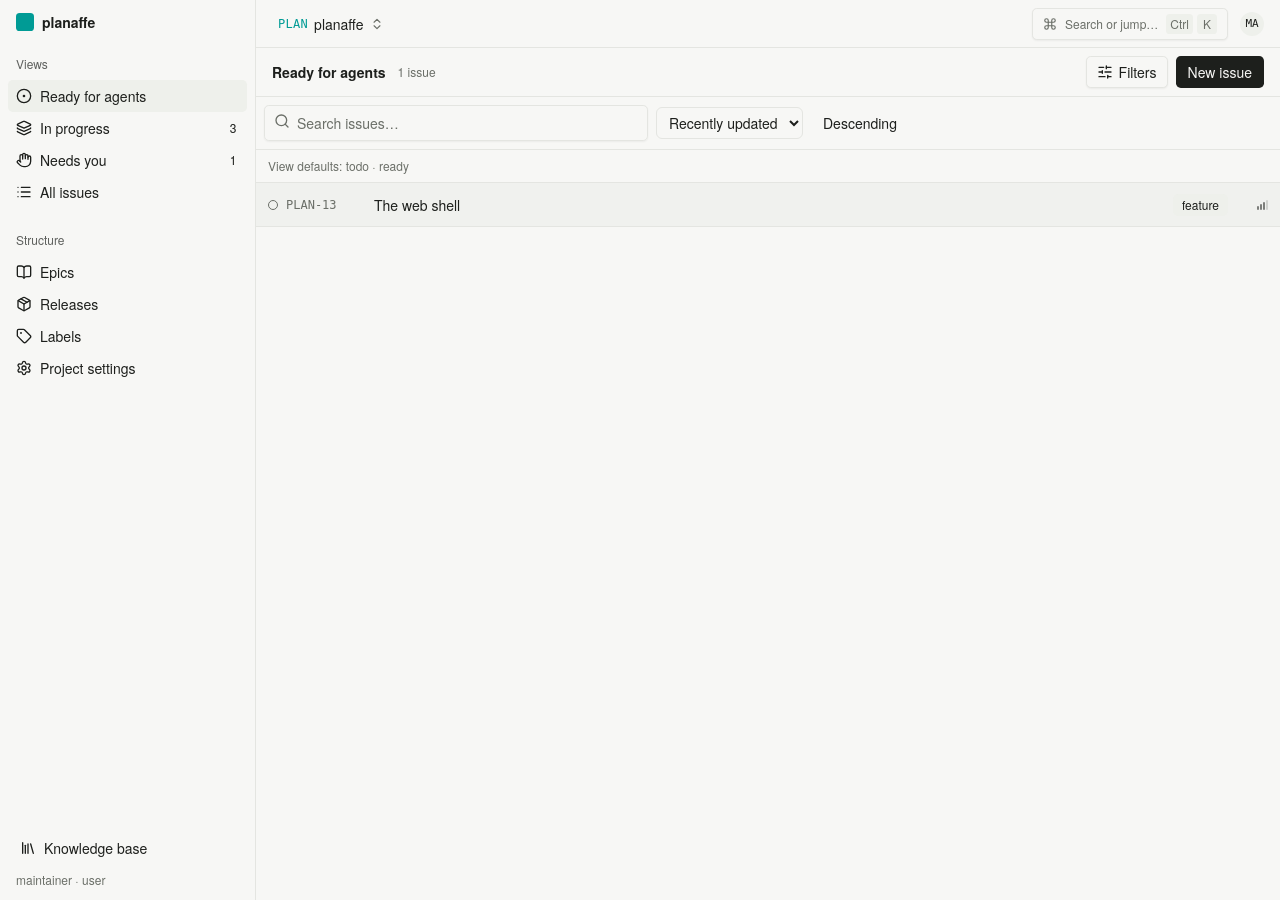
the shell (ADR 0006) › offers what the instance finds for words, and the way to all of them
Check: the text "The web shell" is shown, box x1=374 y1=194 x2=460 y2=214
Type keys "{Meta>}k{/Meta}"
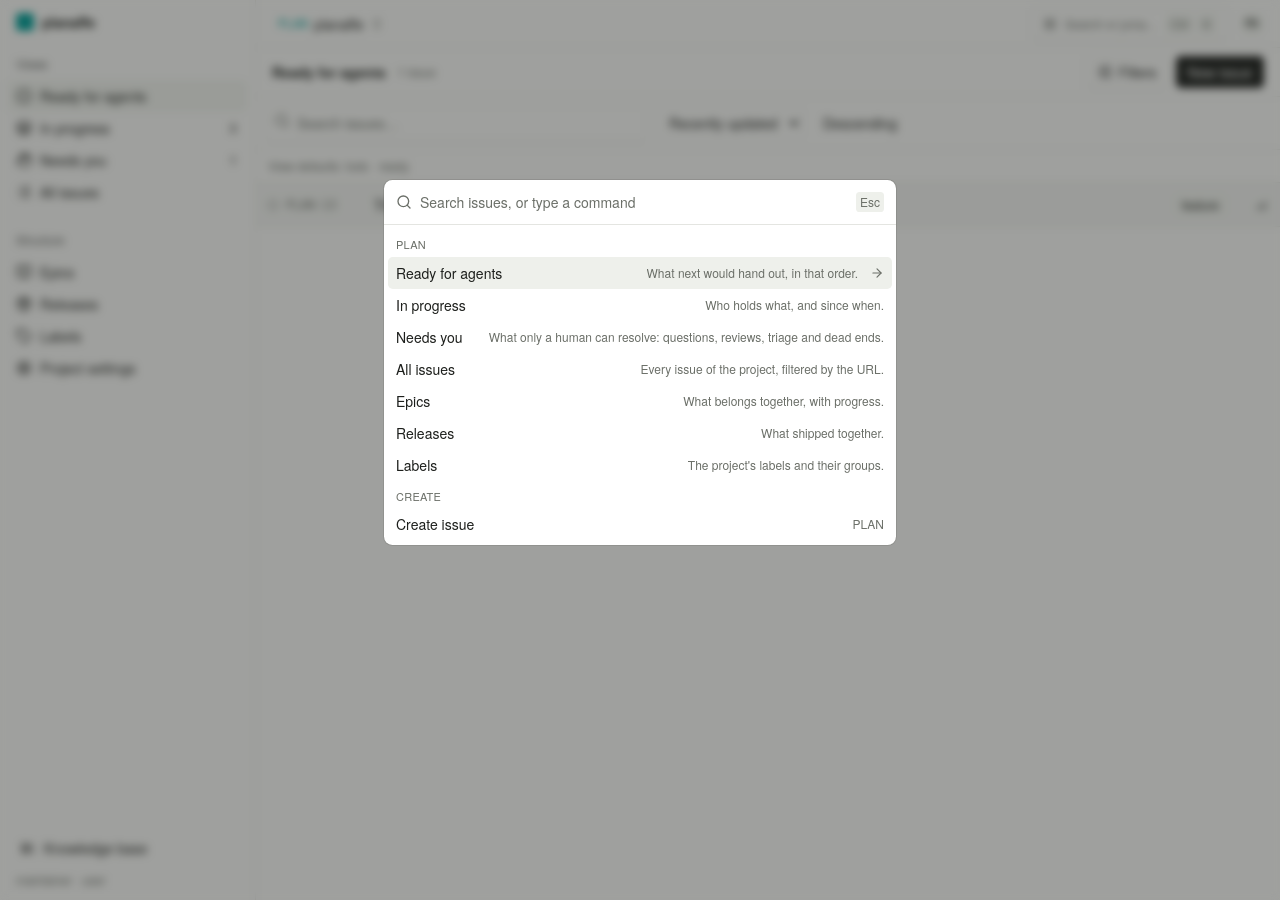
Type "shell" into the dropdown labelled "Search issues, or type a command". click: (634, 202)
box: x1=420 y1=180 x2=848 y2=224
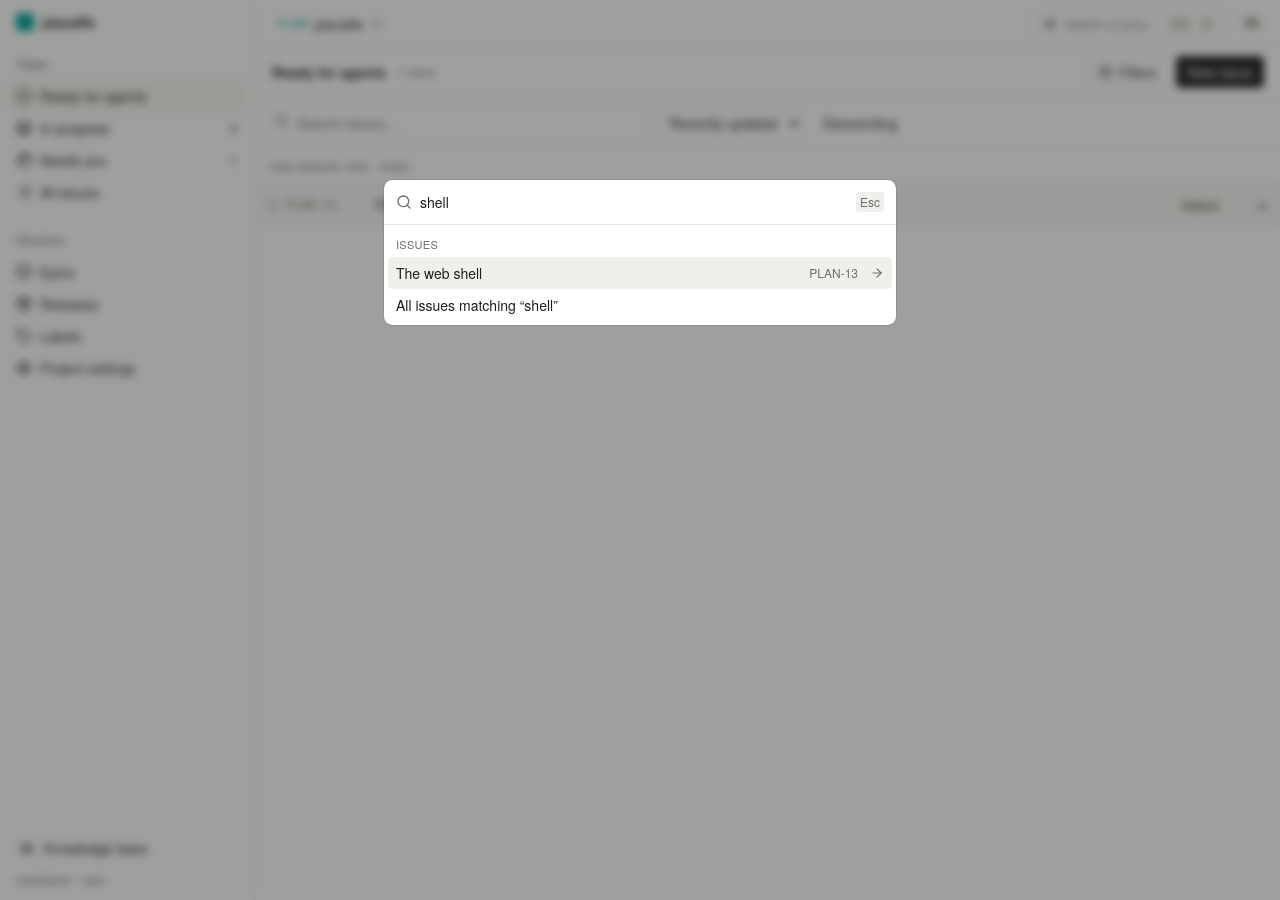
Check: the text "PLAN" is shown, box x1=278 y1=16 x2=308 y2=32
Check: the text "PLAN-13" is shown, box x1=809 y1=265 x2=858 y2=281
Click the option "The web shell PLAN-13". click: (439, 273)
box: x1=388 y1=257 x2=892 y2=289
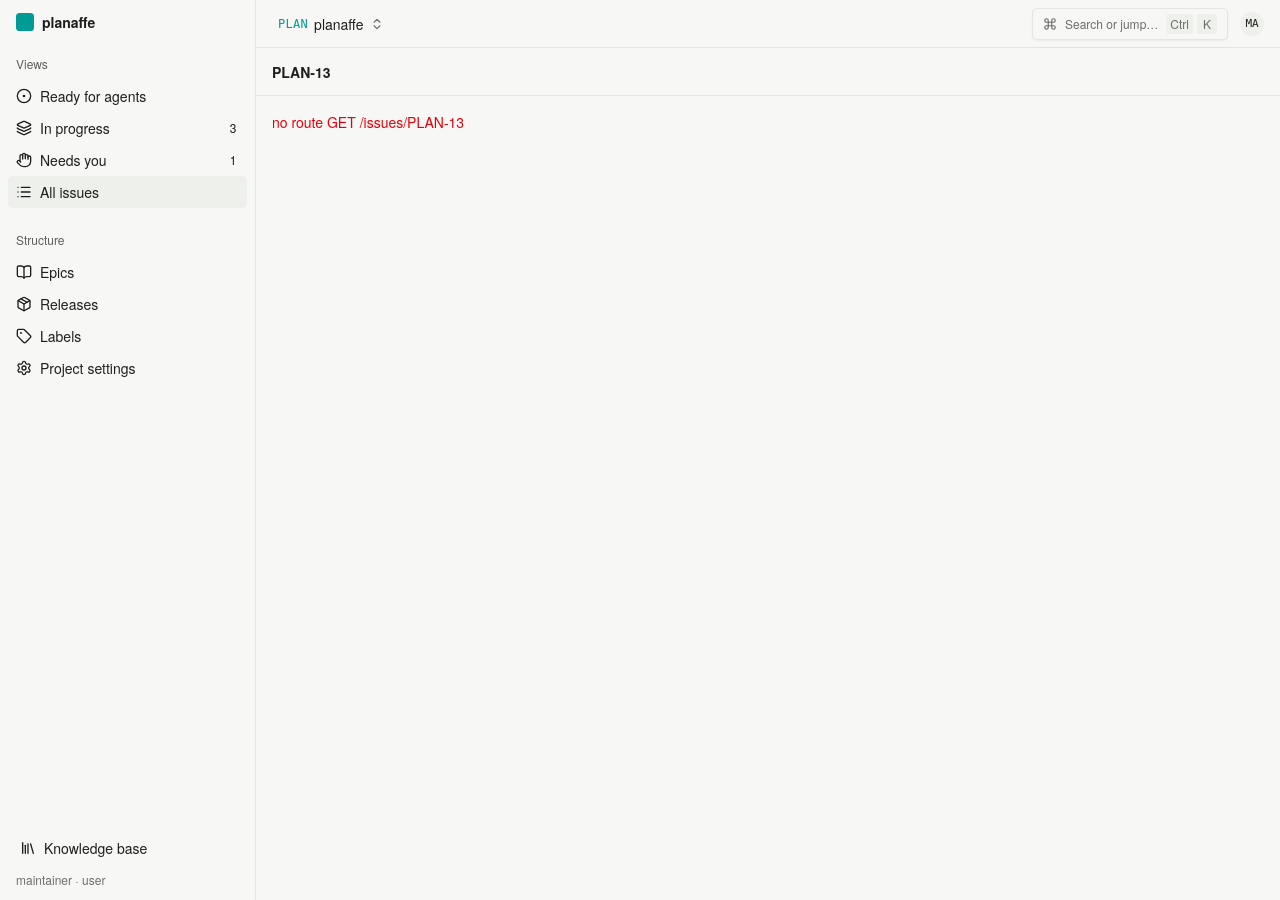
Check: the heading "PLAN-13" is shown, box x1=272 y1=62 x2=330 y2=82
